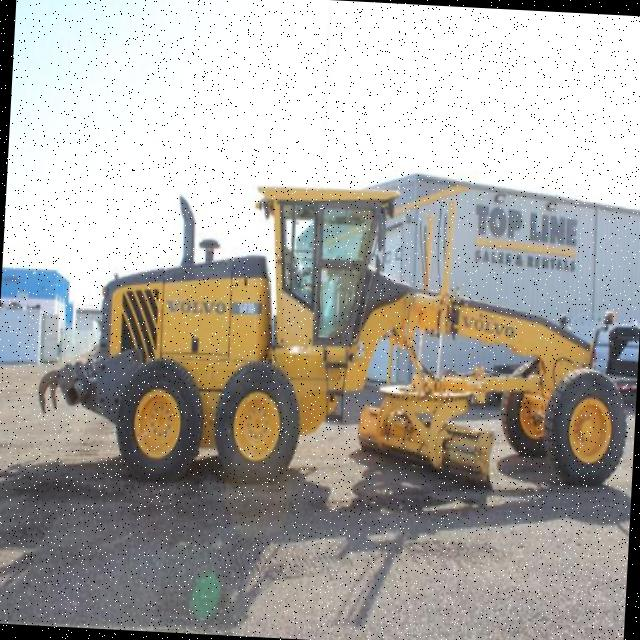Grader: (40, 160, 640, 515)
